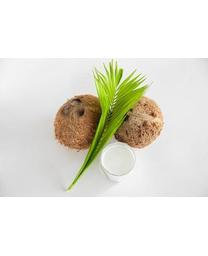coconut: (51, 88, 106, 154), (112, 92, 171, 150)
